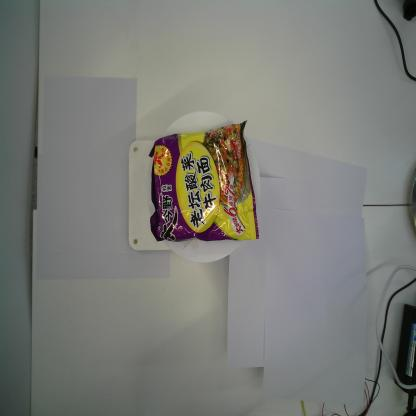Instant Noodles: (148, 119, 260, 244)
